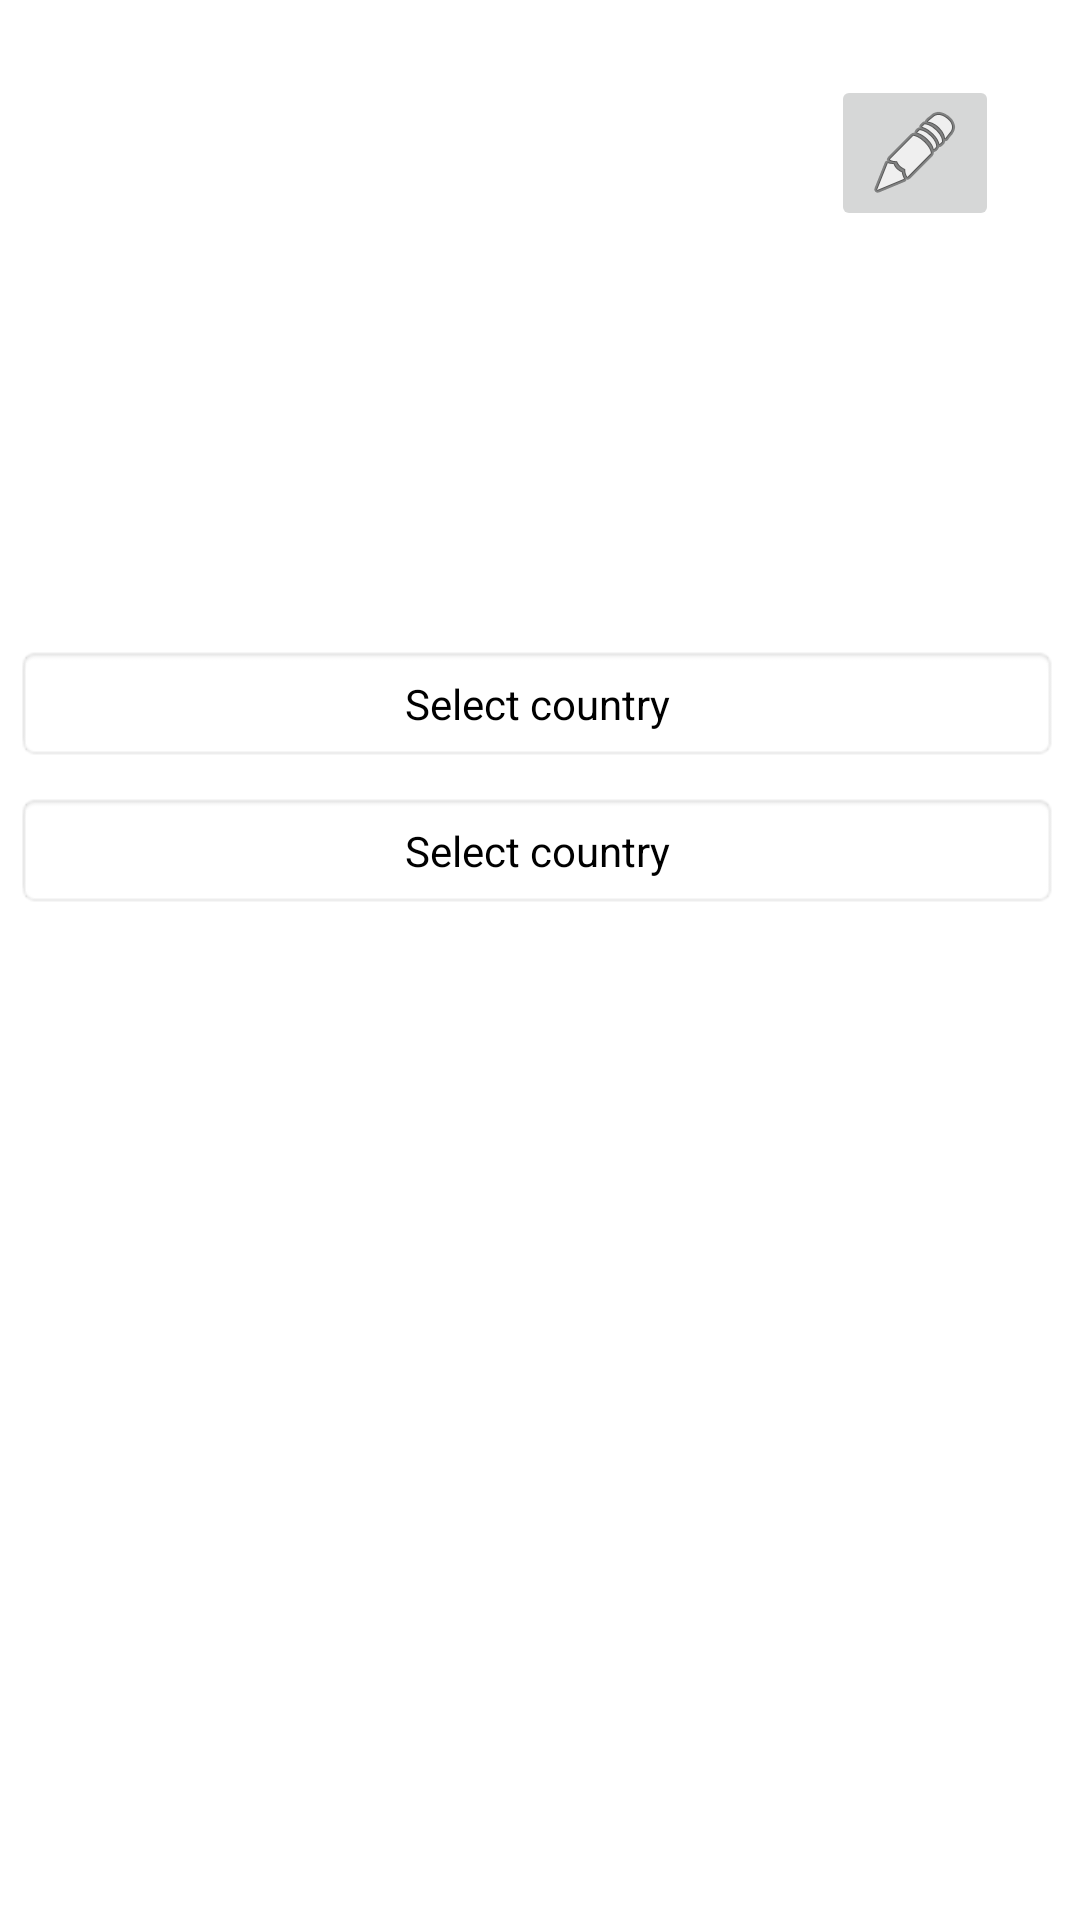

Named icons in this screenshot (1080x1920) and their bounding boxes, (x1, y1, x2, y2):
edit: (843, 93, 987, 213)
